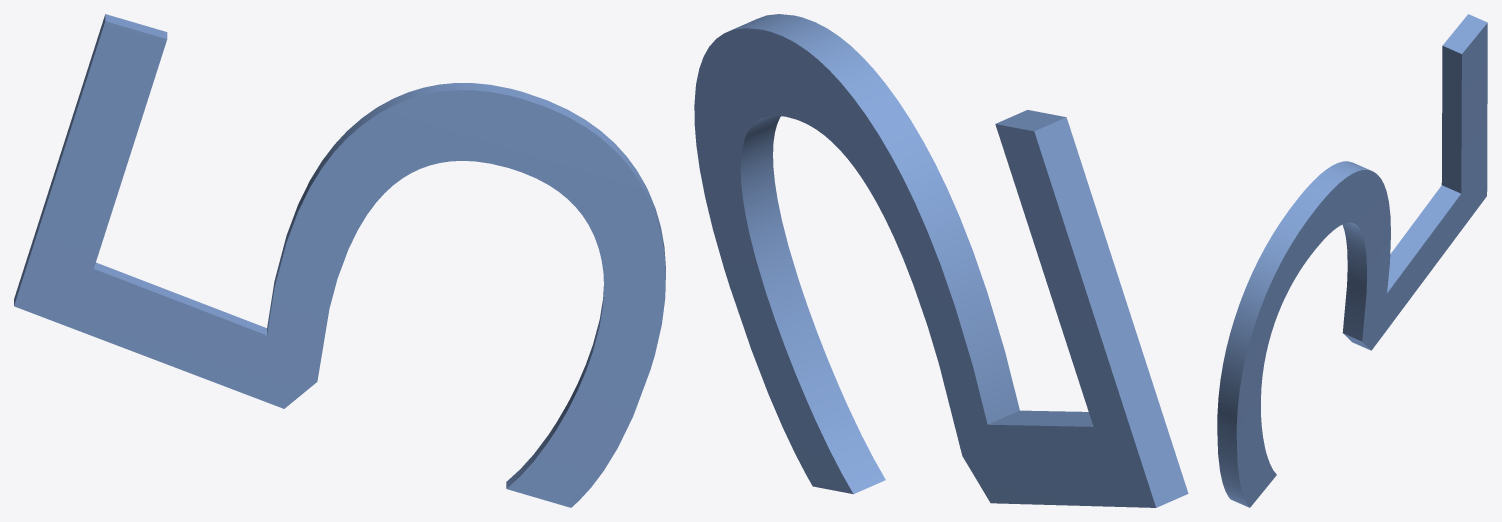
The model's file is New_Number_5.gltf.
3 renders of one model, left to right at view 1: azimuth 30°, elevation 25°; view 2: azimuth 150°, elevation 25°; view 3: azimuth 270°, elevation 25°, orthographic. The views are drawn at different scales.
Visible parts, largest first — view 1: Part 59; view 2: Part 59; view 3: Part 59.
Boxes of the visible parts, x1=… form: Part 59: x1=14, y1=14, x2=665, y2=507; Part 59: x1=694, y1=14, x2=1188, y2=507; Part 59: x1=1217, y1=14, x2=1487, y2=507.
Size of the model in its own units: 0.00523 by 0.00449 by 0.00301.
